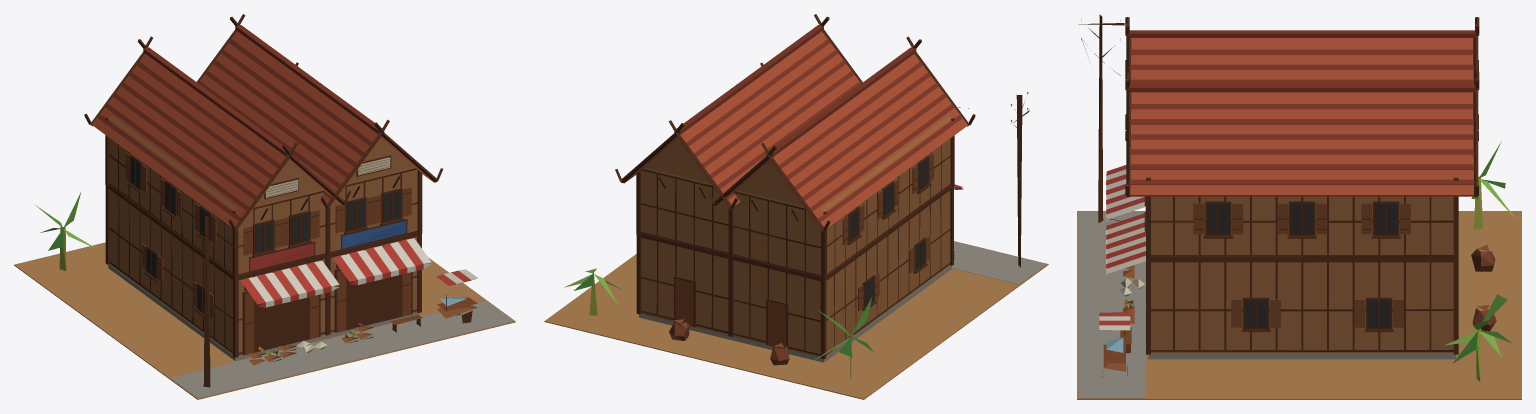
The model's file is shop_2.glb.
3 views of the same model, side by side, from view 1: azimuth 30°, elevation 25°; view 2: azimuth 150°, elevation 25°; view 3: azimuth 270°, elevation 25° (orthographic). The views are drawn at different scales.
Visible parts, largest first — view 1: body, windows; view 2: body, windows; view 3: body, windows.
Part boxes in pixels (left/top/right/bottom): body: left=14, top=14, right=515, bottom=399; windows: left=131, top=157, right=401, bottom=312; body: left=544, top=14, right=1048, bottom=399; windows: left=849, top=158, right=928, bottom=306; body: left=1077, top=14, right=1521, bottom=399; windows: left=1132, top=204, right=1397, bottom=327.
Size of the model in its own units: 15.99 by 10.22 by 15.9.
